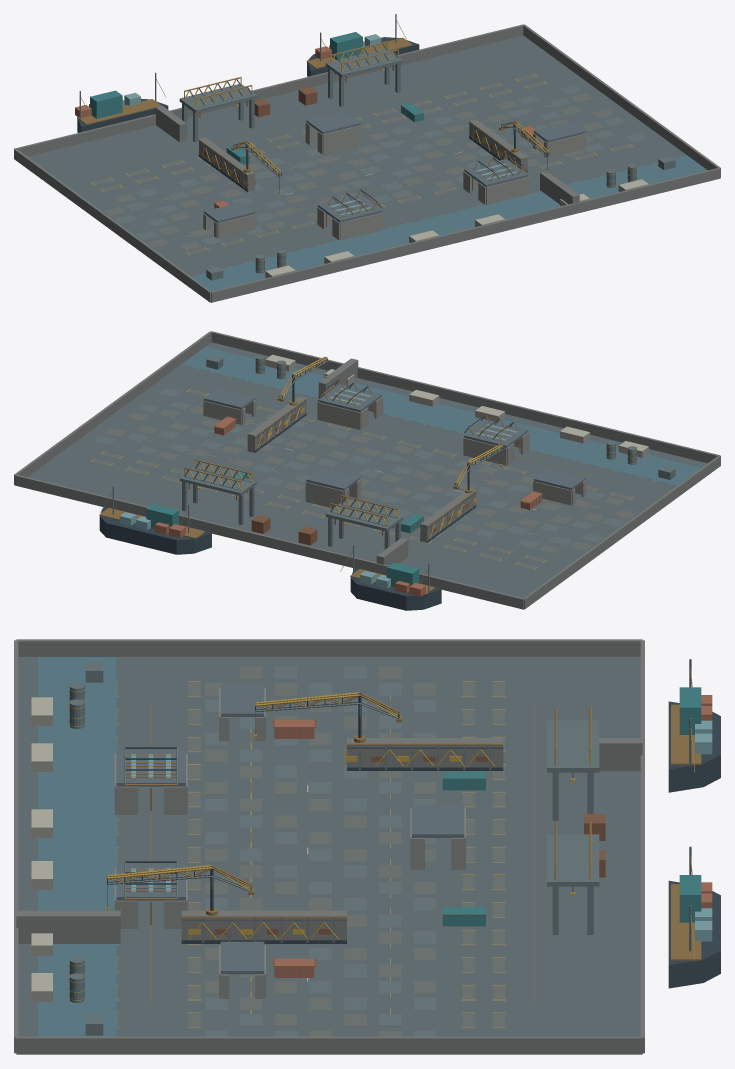
Rendered from breakwater-exchange.glb.
The picture shows the model from 3 angles, top to bottom: view 1: azimuth 30°, elevation 25°; view 2: azimuth 150°, elevation 25°; view 3: azimuth 270°, elevation 25°; orthographic projection. The views are drawn at different scales.
Parts seen in each view (by area): view 1: batch.quay, batch.retaining, batch.iron, batch.sediment, batch.tidal-silt, batch.plaster, batch.roof, batch.bronze, batch.teal, batch.charcoal, batch.safety-yellow, batch.hazard-white (+3 smaller); view 2: batch.quay, batch.retaining, batch.iron, batch.sediment, batch.tidal-silt, batch.plaster, batch.charcoal, batch.roof, batch.bronze, batch.safety-yellow, batch.teal, batch.coral (+4 smaller); view 3: batch.quay, batch.retaining, batch.iron, batch.tidal-silt, batch.sediment, batch.roof, batch.charcoal, batch.bronze, batch.plaster, batch.safety-yellow, batch.teal, batch.hazard-white (+5 smaller).
Boxes of the visible parts, <box> form: batch.quay: <box>27,35,711,302</box>; batch.retaining: <box>14,24,720,302</box>; batch.iron: <box>79,14,675,280</box>; batch.sediment: <box>90,74,656,268</box>; batch.tidal-silt: <box>191,155,707,291</box>; batch.plaster: <box>203,122,586,240</box>; batch.roof: <box>204,111,585,223</box>; batch.bronze: <box>77,37,635,270</box>; batch.teal: <box>90,32,423,164</box>; batch.charcoal: <box>77,37,549,208</box>; batch.safety-yellow: <box>81,20,655,272</box>; batch.hazard-white: <box>266,151,648,275</box>; batch.quay: <box>16,342,707,609</box>; batch.retaining: <box>14,331,720,609</box>; batch.iron: <box>93,355,675,591</box>; batch.sediment: <box>90,372,656,569</box>; batch.tidal-silt: <box>181,346,701,485</box>; batch.plaster: <box>203,396,586,508</box>; batch.charcoal: <box>99,358,529,610</box>; batch.roof: <box>204,384,585,490</box>; batch.bronze: <box>99,357,630,594</box>; batch.safety-yellow: <box>91,356,655,583</box>; batch.teal: <box>146,472,423,586</box>; batch.coral: <box>155,417,542,596</box>; batch.quay: <box>16,657,642,1054</box>; batch.retaining: <box>14,639,644,1054</box>; batch.iron: <box>69,659,691,1036</box>; batch.tidal-silt: <box>38,657,116,1036</box>; batch.sediment: <box>116,666,505,1036</box>; batch.roof: <box>116,684,464,974</box>; batch.charcoal: <box>107,692,720,988</box>; batch.bronze: <box>68,666,701,1030</box>; batch.plaster: <box>114,687,465,998</box>; batch.safety-yellow: <box>69,669,694,1027</box>; batch.teal: <box>442,687,701,926</box>; batch.hazard-white: <box>31,697,308,991</box>.
Bounding box in the file's own units: 217 × 21.84 × 162.
